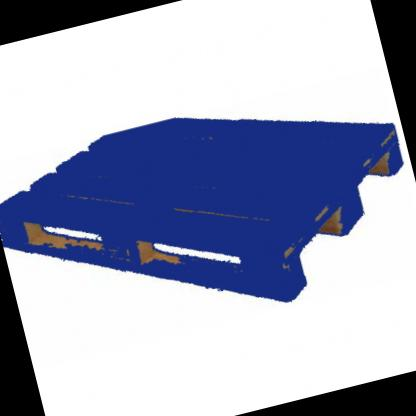BoxFace: (0, 115, 408, 309)
